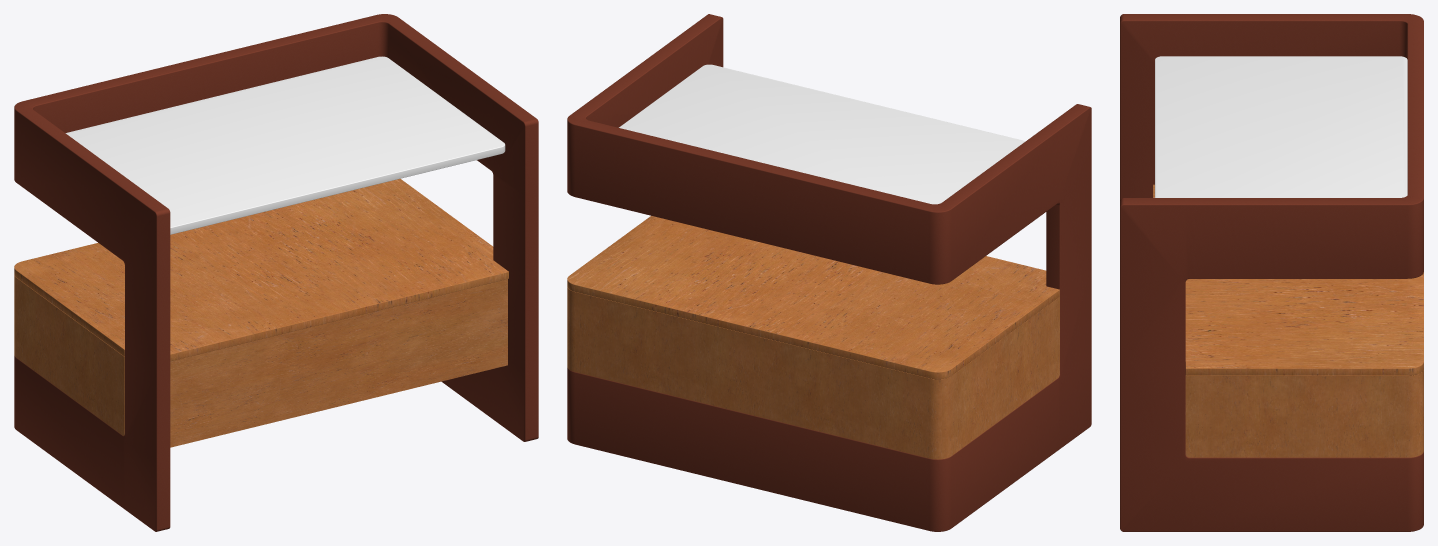
Rendered from furniture4.gltf.
The picture shows the model from 3 angles, left to right: view 1: azimuth 30°, elevation 25°; view 2: azimuth 150°, elevation 25°; view 3: azimuth 270°, elevation 25°; orthographic projection. The views are drawn at different scales.
Visible parts, largest first — view 1: Cube, Cube.002, Cube.007, Cube.004, Cube.001; view 2: Cube, Cube.002, Cube.001, Cube.007; view 3: Cube, Cube.007, Cube.002, Cube.001.
Boxes of the visible parts, left/top/right/bottom form: Cube: left=14, top=14, right=538, bottom=531; Cube.002: left=14, top=178, right=508, bottom=361; Cube.007: left=65, top=56, right=505, bottom=234; Cube.004: left=170, top=279, right=507, bottom=447; Cube.001: left=14, top=275, right=124, bottom=435; Cube: left=567, top=14, right=1091, bottom=531; Cube.002: left=567, top=215, right=1059, bottom=379; Cube.001: left=567, top=287, right=1059, bottom=459; Cube.007: left=619, top=64, right=1025, bottom=204; Cube: left=1120, top=14, right=1423, bottom=531; Cube.007: left=1155, top=56, right=1407, bottom=197; Cube.002: left=1153, top=184, right=1423, bottom=375; Cube.001: left=1185, top=369, right=1423, bottom=457.
Size of the model in its own units: 0.55 by 0.44 by 0.37.
4 materials, 3 textured.
